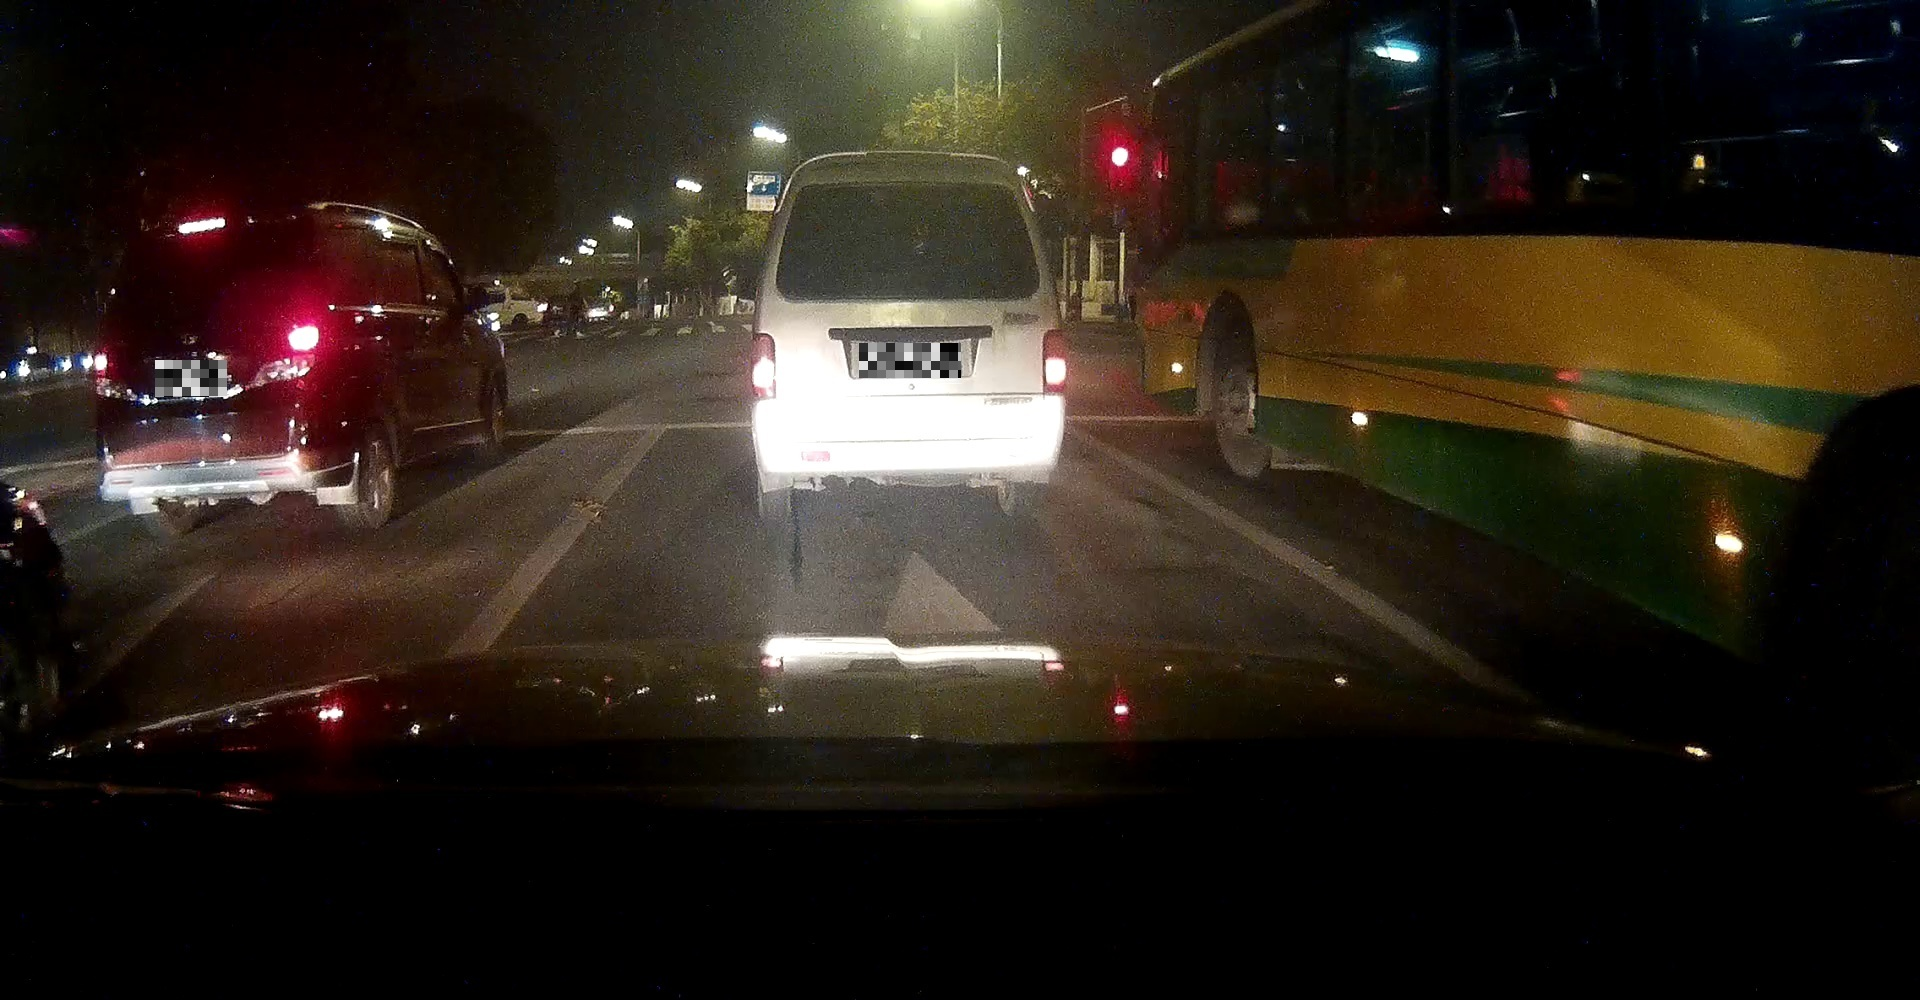L_light: (747, 332, 775, 402), (91, 348, 109, 377)
R_light: (1045, 327, 1068, 395), (287, 322, 319, 354)
T_light: (175, 217, 229, 235), (889, 176, 938, 189)
night-brake: (90, 209, 364, 538)
night-no: (747, 150, 1069, 520)
plate_1: (155, 360, 227, 397)
plate_2: (858, 343, 961, 378)
